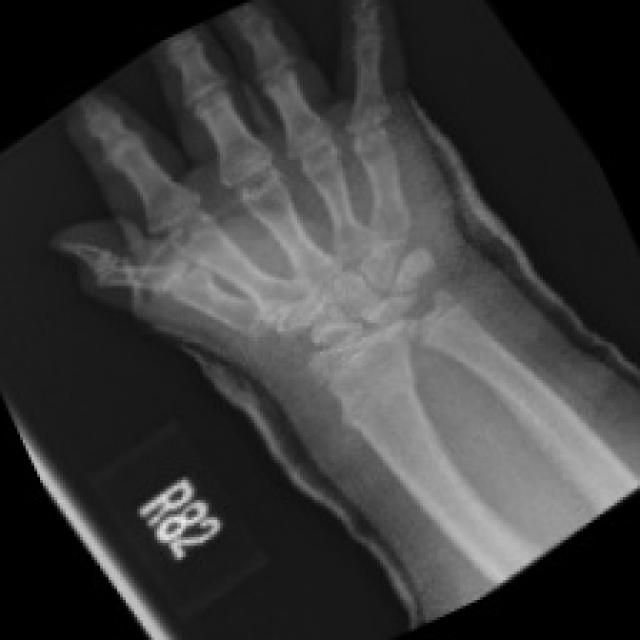fracture: (310, 372, 444, 428)
